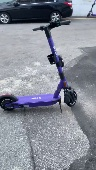beam: (1, 21, 79, 110)
